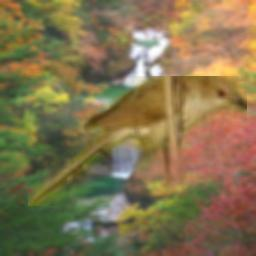Cuckoo: (28, 76, 247, 206)
